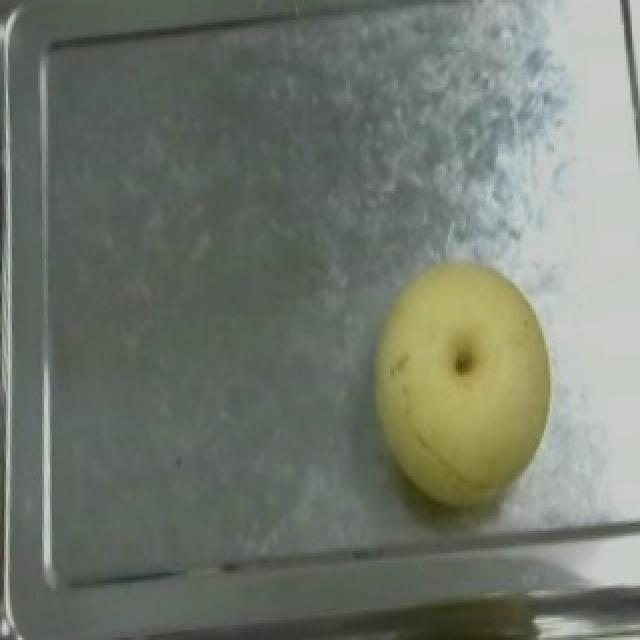Fruit: (354, 246, 568, 516)
